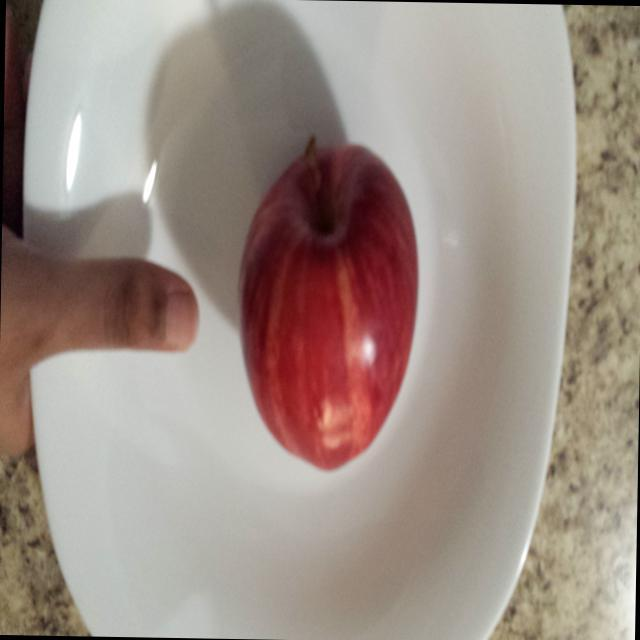Apple: (229, 122, 426, 474)
Finger: (70, 250, 203, 358)
